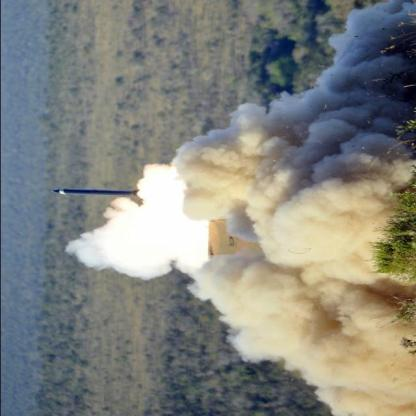MIL_TBM: (45, 182, 147, 198)
